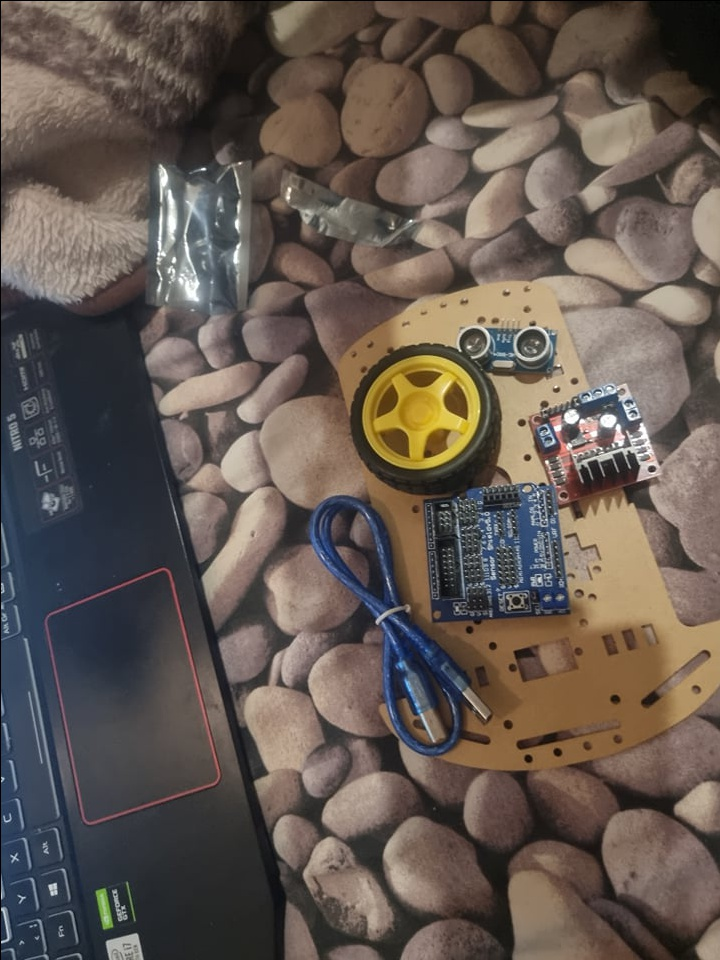5V EXPANSION: (422, 479, 570, 629)
MOTOR: (528, 376, 664, 506)
SENSOR: (452, 320, 561, 375)
